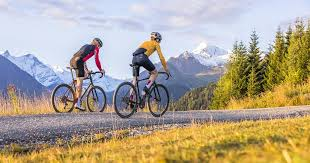Bicycle: (112, 69, 174, 117), (48, 67, 108, 114)
